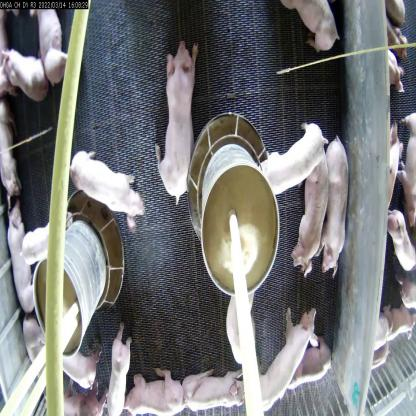Pig: (232, 298, 314, 413), (60, 137, 147, 232), (155, 33, 204, 199), (252, 114, 324, 201), (215, 278, 267, 378), (292, 157, 328, 275), (96, 326, 142, 415), (330, 138, 356, 279), (282, 0, 341, 60), (27, 4, 67, 85), (0, 114, 32, 200), (130, 368, 186, 415), (8, 215, 32, 322), (190, 366, 252, 406), (0, 48, 43, 104), (283, 350, 333, 386)
